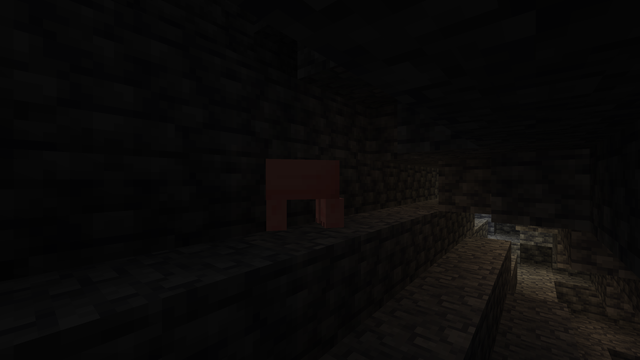cochons: (271, 155, 342, 235)
